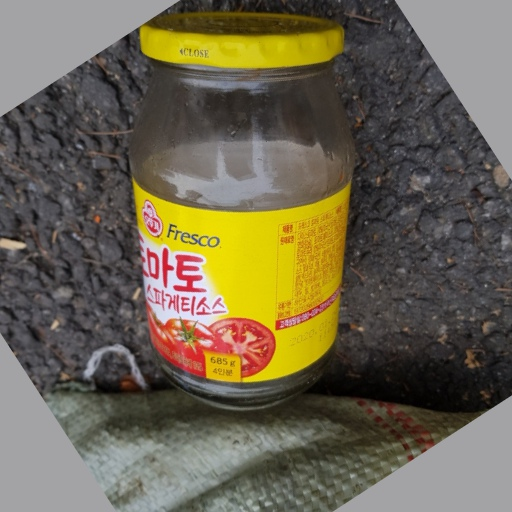Glass_5: (125, 10, 361, 408)
